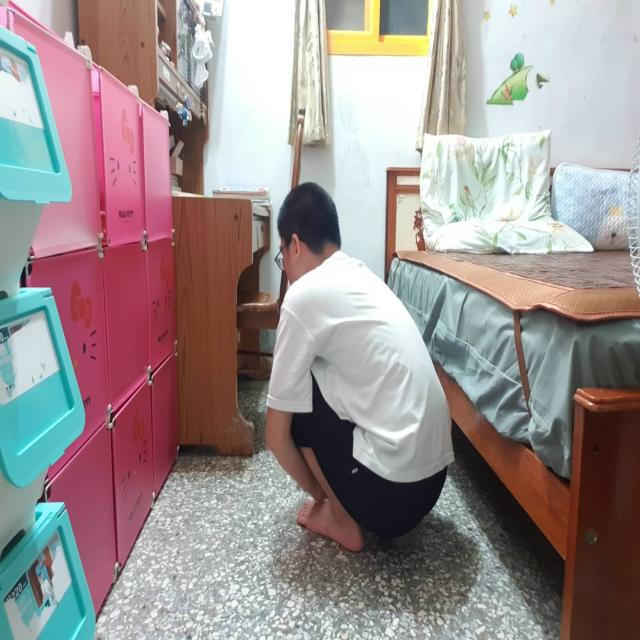sit: (260, 166, 472, 585)
